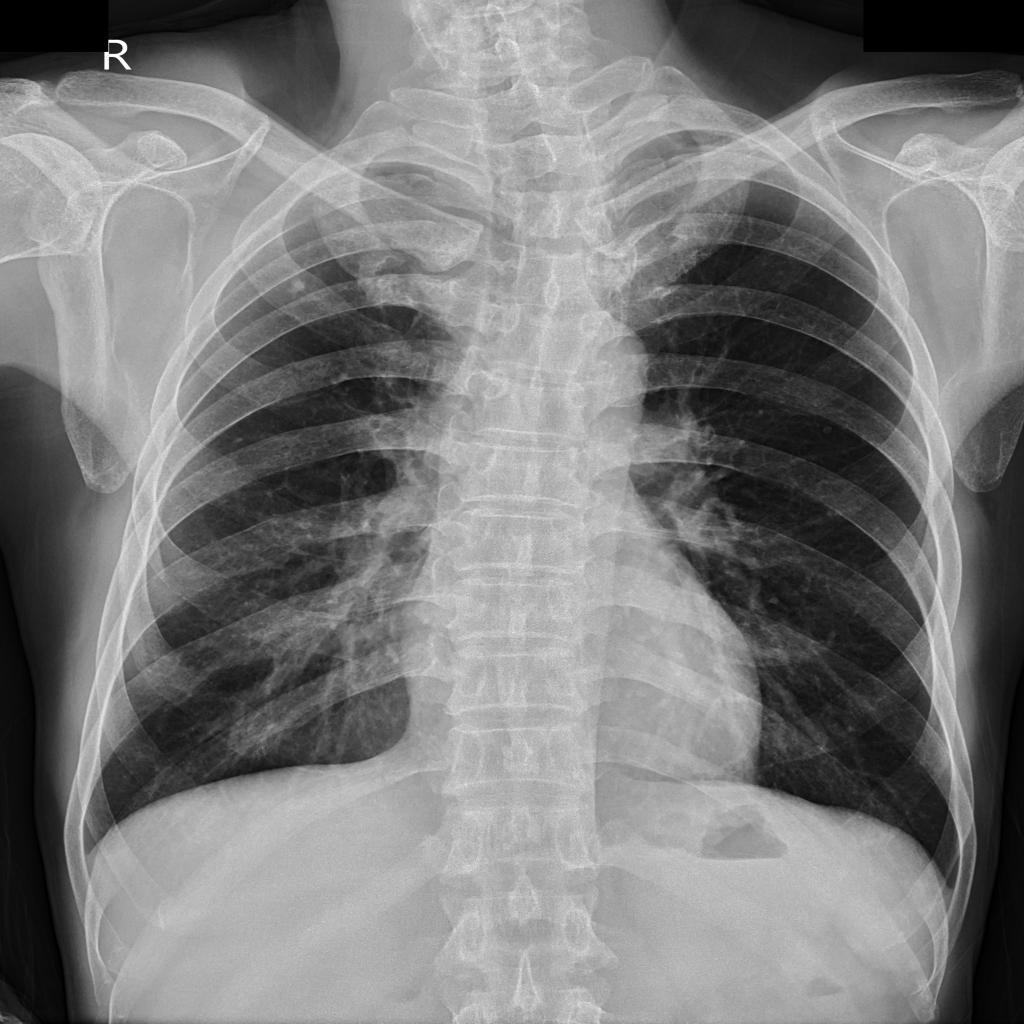Nodule: (289, 280, 310, 293)
